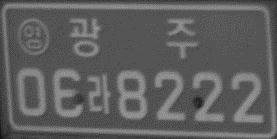0: (16, 67, 47, 117)
2: (230, 71, 265, 124), (191, 70, 225, 122), (153, 69, 185, 121)
6: (51, 67, 83, 118)
8: (115, 68, 148, 120)
광주_D: (69, 16, 199, 59)
라: (86, 73, 112, 114)
영: (16, 16, 52, 56)
